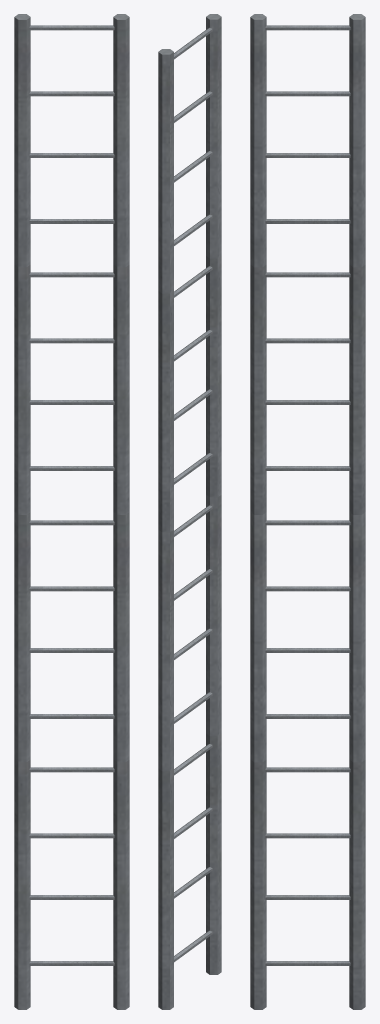
File: Ladder Long.fbx
3 views of the same model, side by side, from view 1: azimuth 90°, elevation 25°; view 2: azimuth 150°, elevation 25°; view 3: azimuth 270°, elevation 25° (orthographic). The views are drawn at different scales.
Parts seen in each view (by area): view 1: Cylinder017; view 2: Cylinder017; view 3: Cylinder017.
Boxes of the visible parts, <box> form: Cylinder017: <box>14,14,129,1009</box>; Cylinder017: <box>158,14,221,1009</box>; Cylinder017: <box>250,14,365,1009</box>.
Size of the model in its own units: 10.39 by 800 by 84.43.
